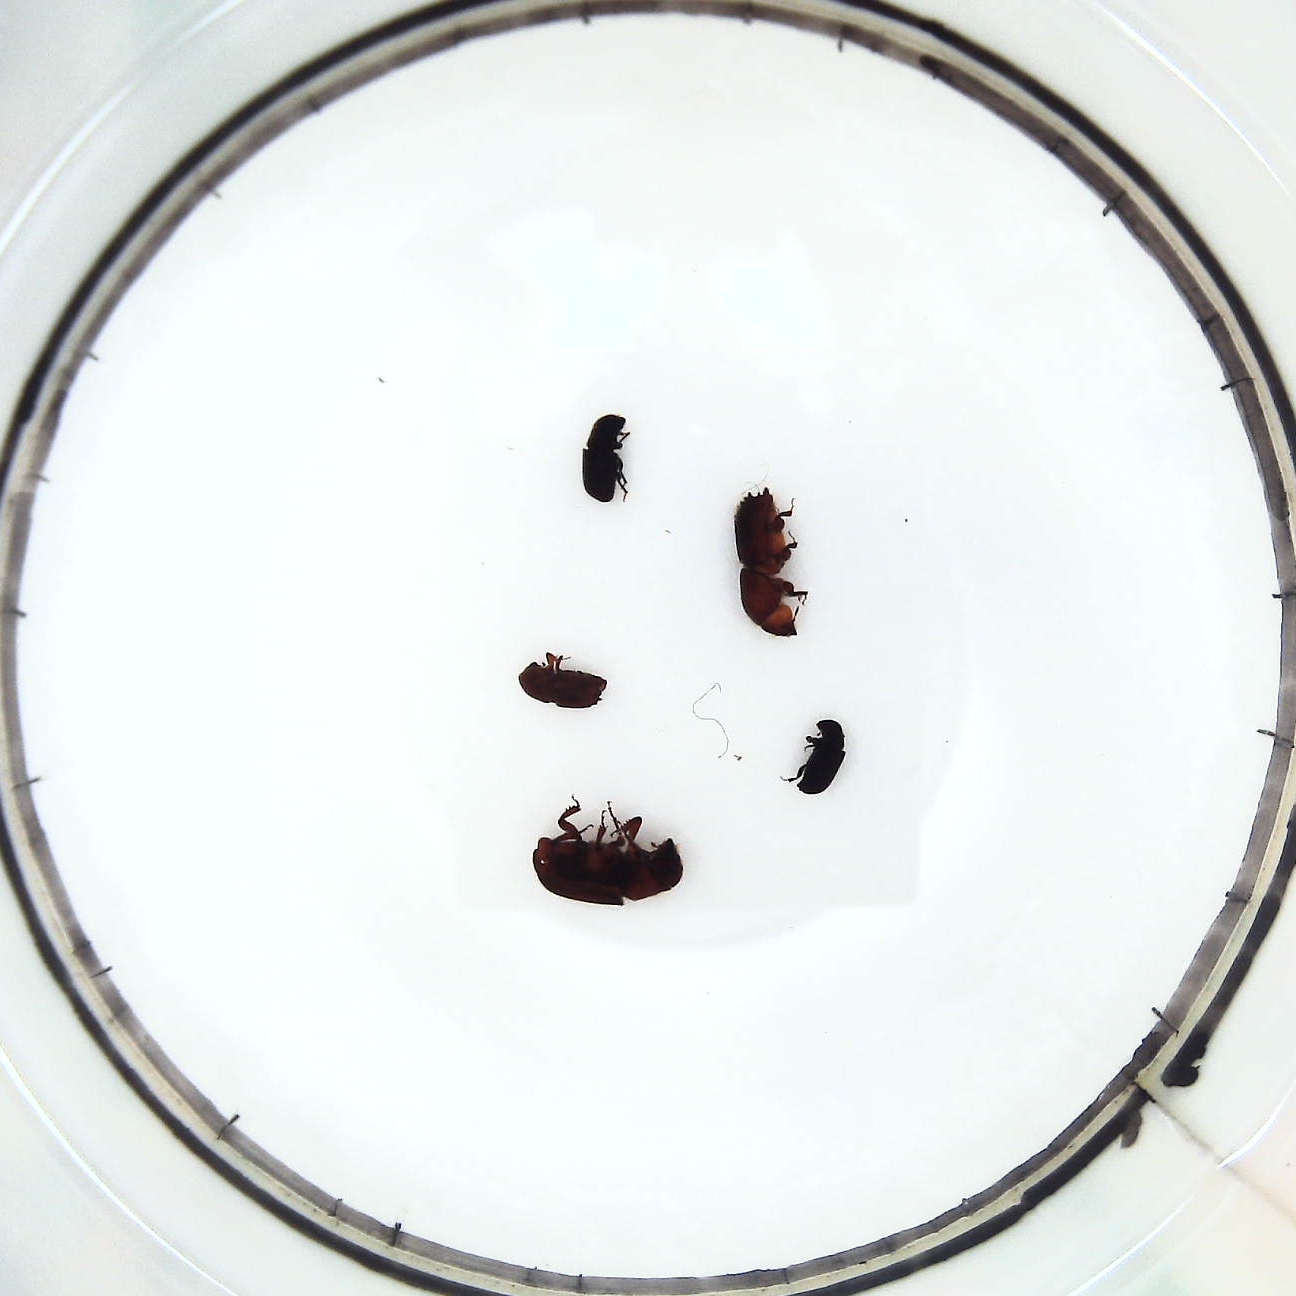Boerner: (728, 482, 815, 647)
Leconte: (531, 789, 693, 913)
armandi: (578, 408, 634, 516)
coleoptera: (786, 718, 851, 794)
linnaeus: (512, 650, 608, 718)
